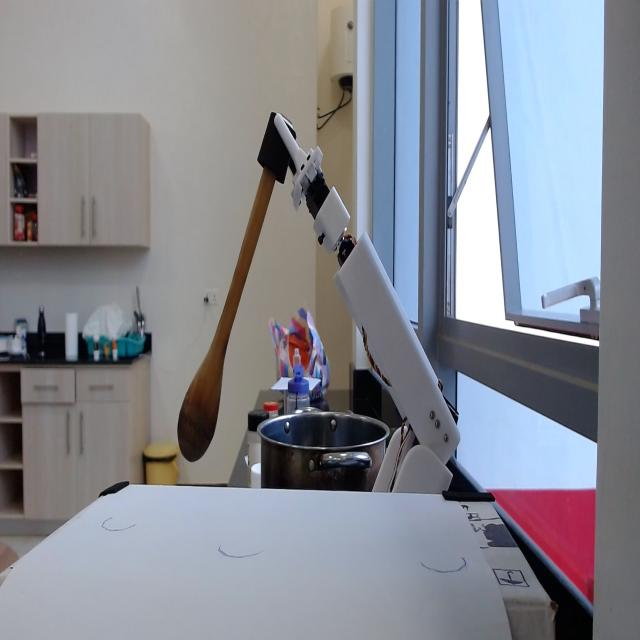cooking_pot: (258, 408, 389, 490)
spatula: (174, 109, 298, 464)
